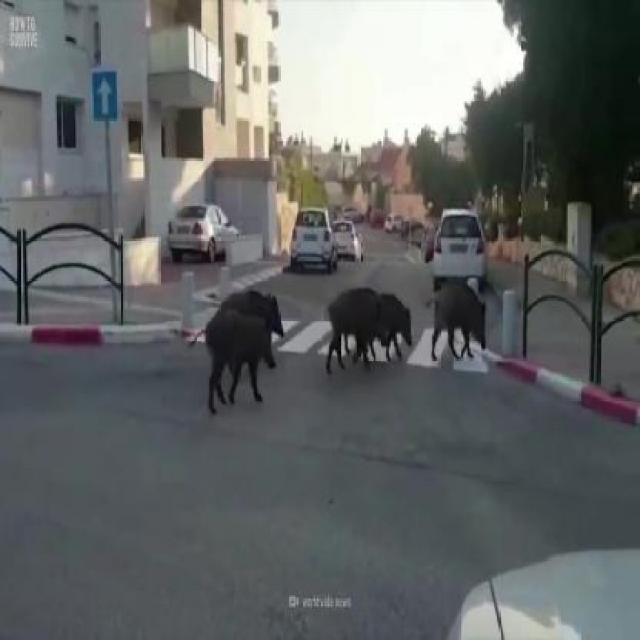pig: (198, 282, 280, 426), (422, 278, 492, 372), (318, 289, 382, 375), (219, 265, 283, 347), (376, 291, 416, 363)
